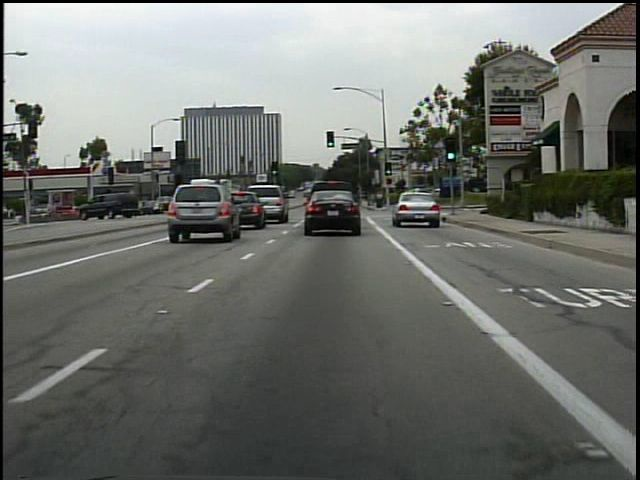person: (373, 189, 387, 211)
